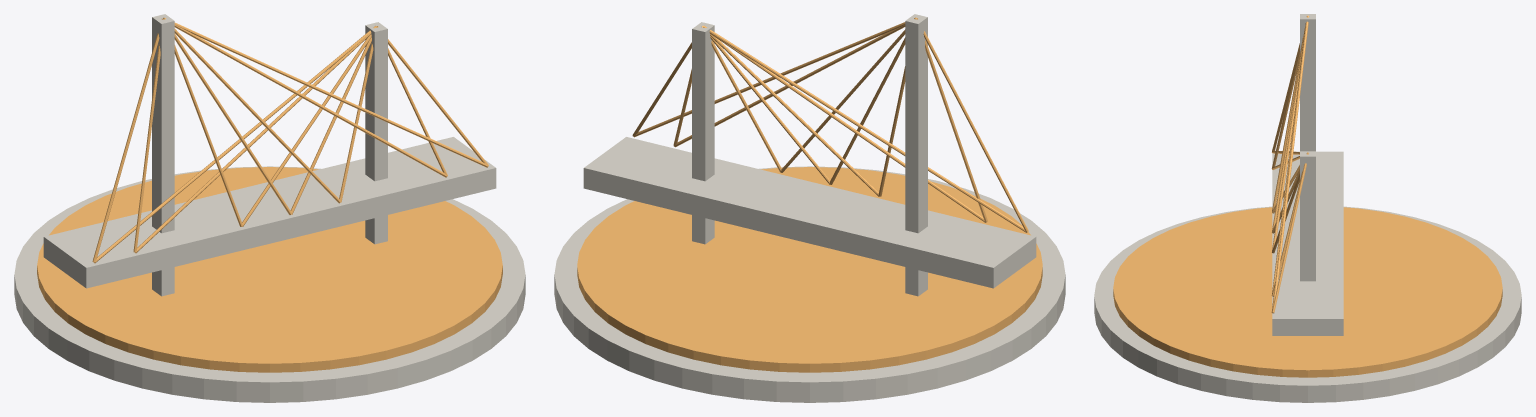
File: bridge.glb
3 views of the same model, side by side, from view 1: azimuth 30°, elevation 25°; view 2: azimuth 150°, elevation 25°; view 3: azimuth 270°, elevation 25° (orthographic). The views are drawn at different scales.
Visible parts, largest first — view 1: Cone.015; view 2: Cone.015; view 3: Cone.015.
Boxes of the visible parts, x1=… form: Cone.015: x1=14, y1=14, x2=525, y2=402; Cone.015: x1=554, y1=14, x2=1065, y2=402; Cone.015: x1=1094, y1=14, x2=1521, y2=402.
Size of the model in its own units: 2.7 by 1.77 by 2.7.
